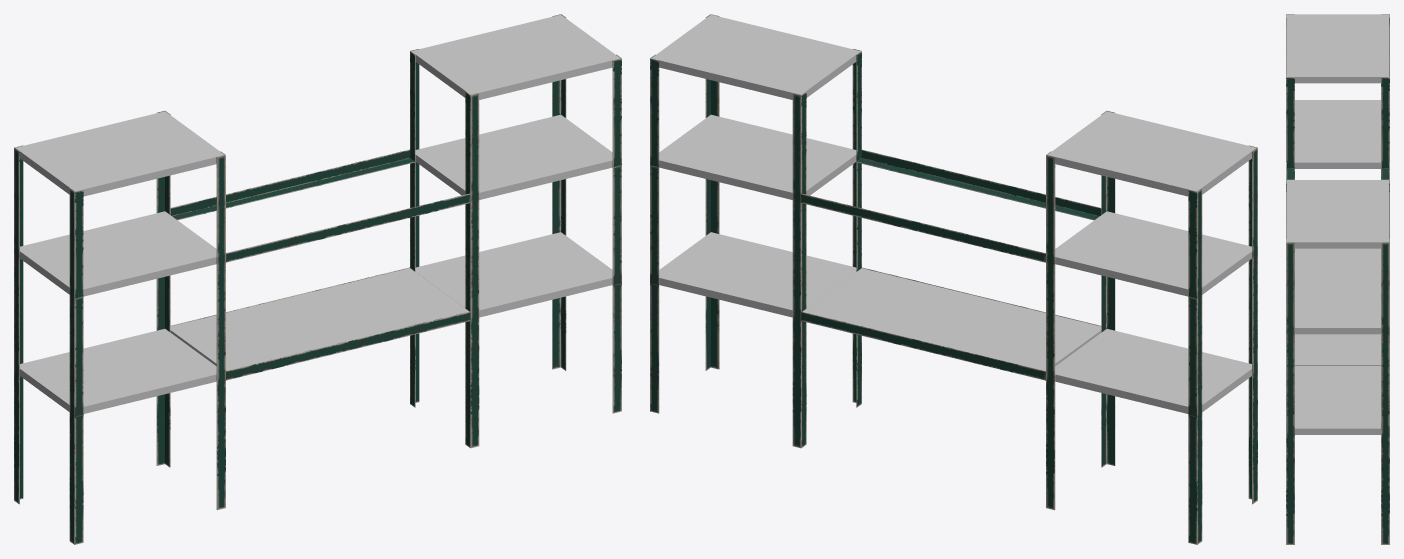
3 renders of one model, left to right at view 1: azimuth 30°, elevation 25°; view 2: azimuth 150°, elevation 25°; view 3: azimuth 270°, elevation 25°, orthographic. The views are drawn at different scales.
Parts seen in each view (by area): view 1: Shelf; view 2: Shelf; view 3: Shelf.
Boxes of the visible parts, <box> form: Shelf: <box>14,14,621,544</box>; Shelf: <box>650,14,1257,544</box>; Shelf: <box>1286,14,1389,544</box>.
Size of the model in its own units: 4.01 by 2.47 by 0.7697.
